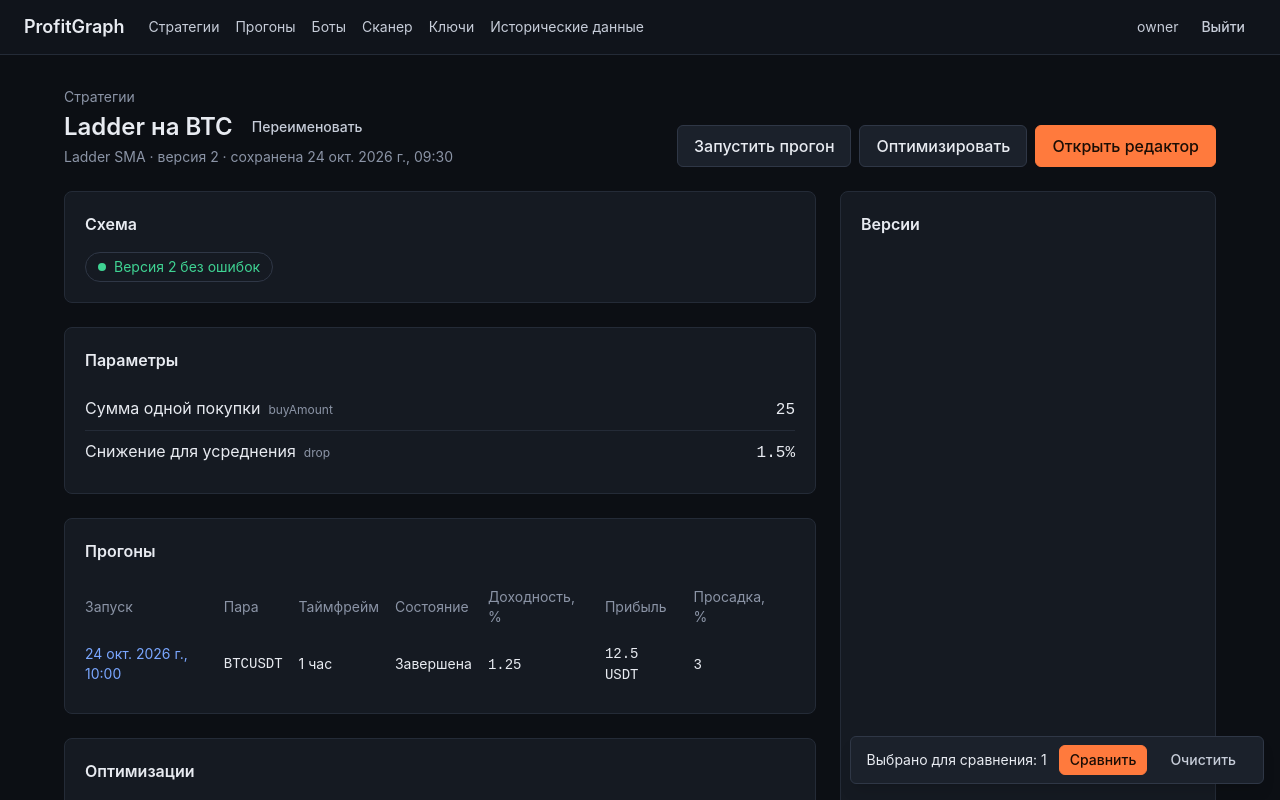
Scenario: run lists › lists a strategy’s runs on its page and its latest run in the strategy list
Expected: the heading "Прогоны" is shown, x1=85 y1=539 x2=156 y2=563
Expected: the text "BTCUSDT" is shown, x1=224 y1=635 x2=299 y2=693
Click the link "Стратегии" in the row of "Боты". click: [184, 27]
box: x1=148 y1=17 x2=219 y2=37
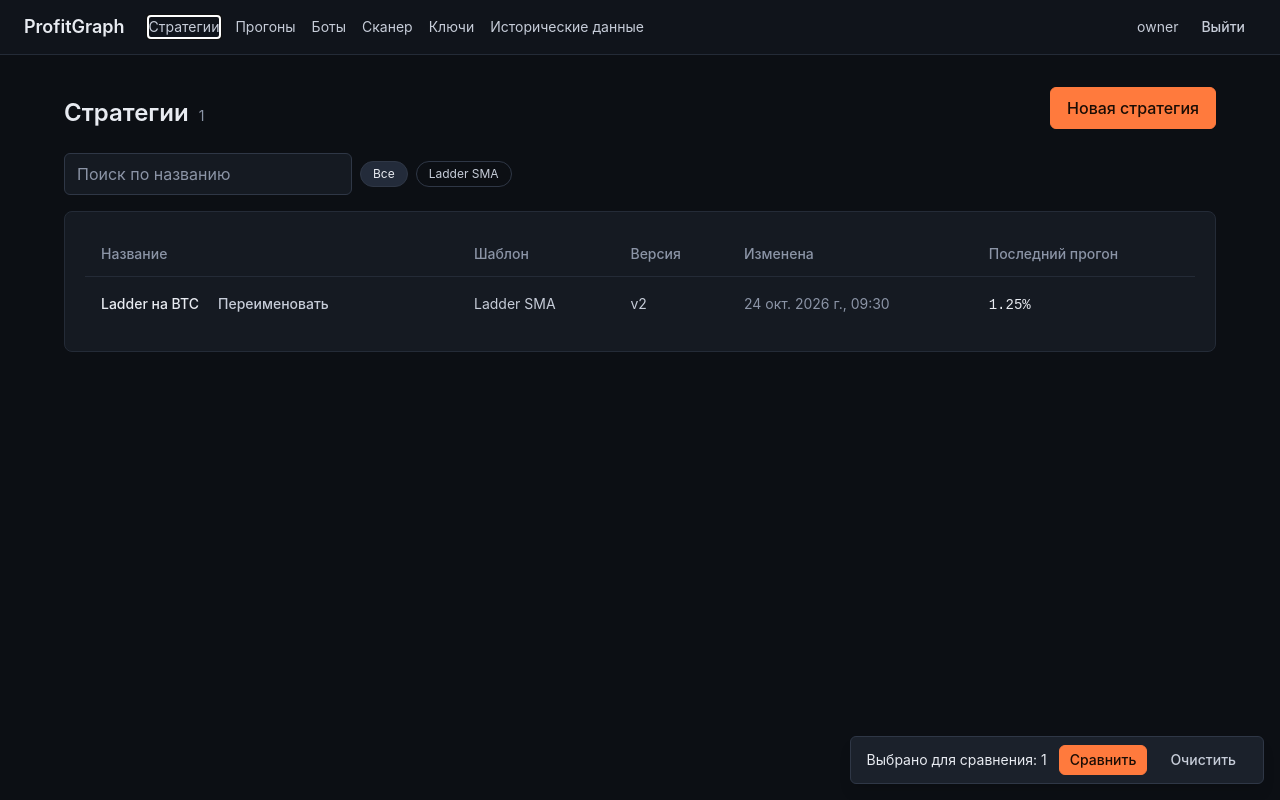
Result: the text titled "1.25" reads "1.25%" at x1=989 y1=296 x2=1031 y2=312
